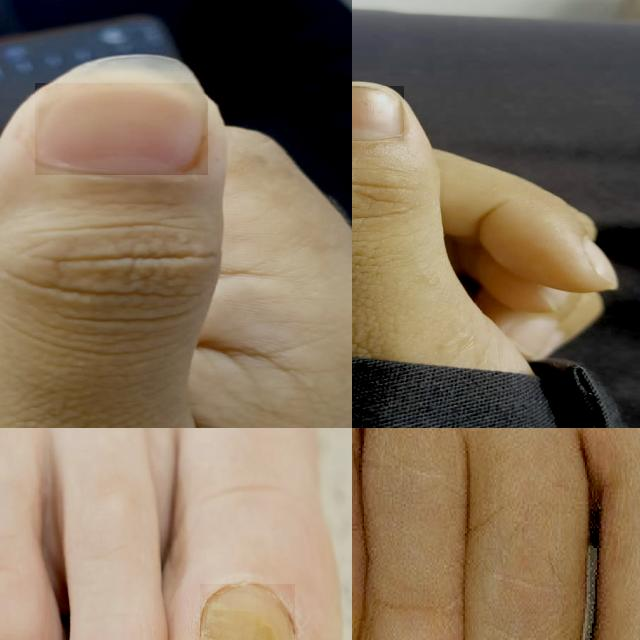diabetes: (201, 585, 295, 640)
sehat: (36, 83, 208, 175), (352, 87, 404, 141)
